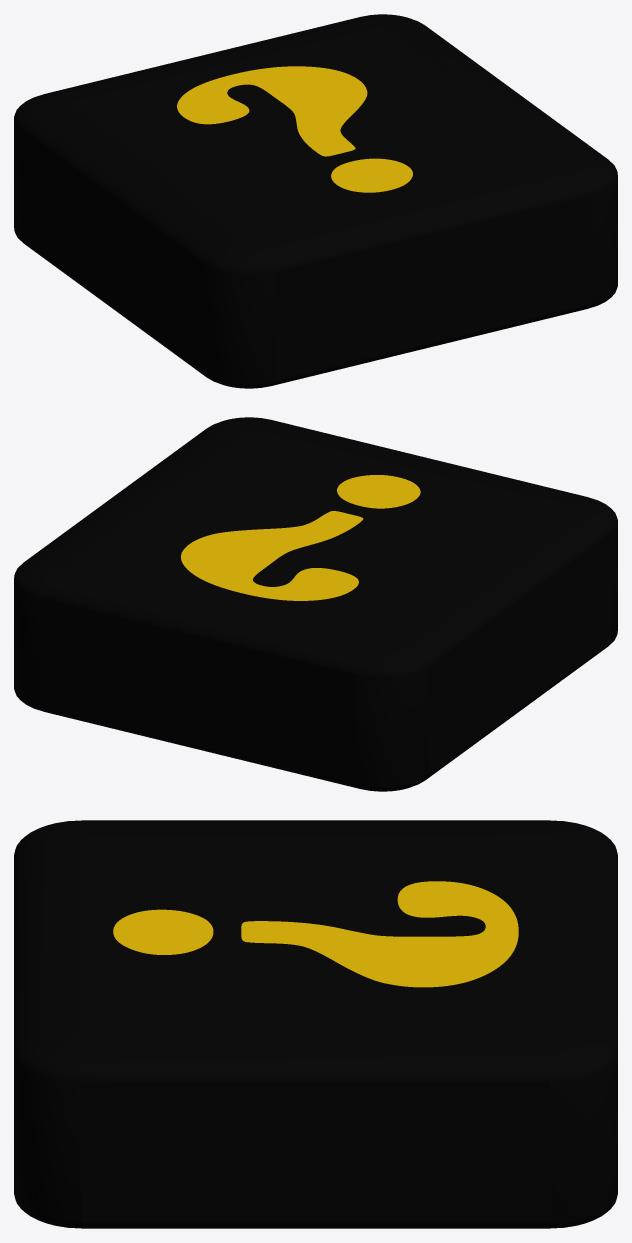
The model's file is button.glb.
The picture shows the model from 3 angles, top to bottom: view 1: azimuth 30°, elevation 25°; view 2: azimuth 150°, elevation 25°; view 3: azimuth 270°, elevation 25°; orthographic projection. The views are drawn at different scales.
Parts seen in each view (by area): view 1: Cube; view 2: Cube; view 3: Cube.
Boxes of the visible parts, left/top/right/bottom form: Cube: left=14, top=14, right=617, bottom=388; Cube: left=14, top=417, right=617, bottom=791; Cube: left=14, top=820, right=617, bottom=1228.
Bounding box in the file's own units: 2 × 0.6589 × 2.
